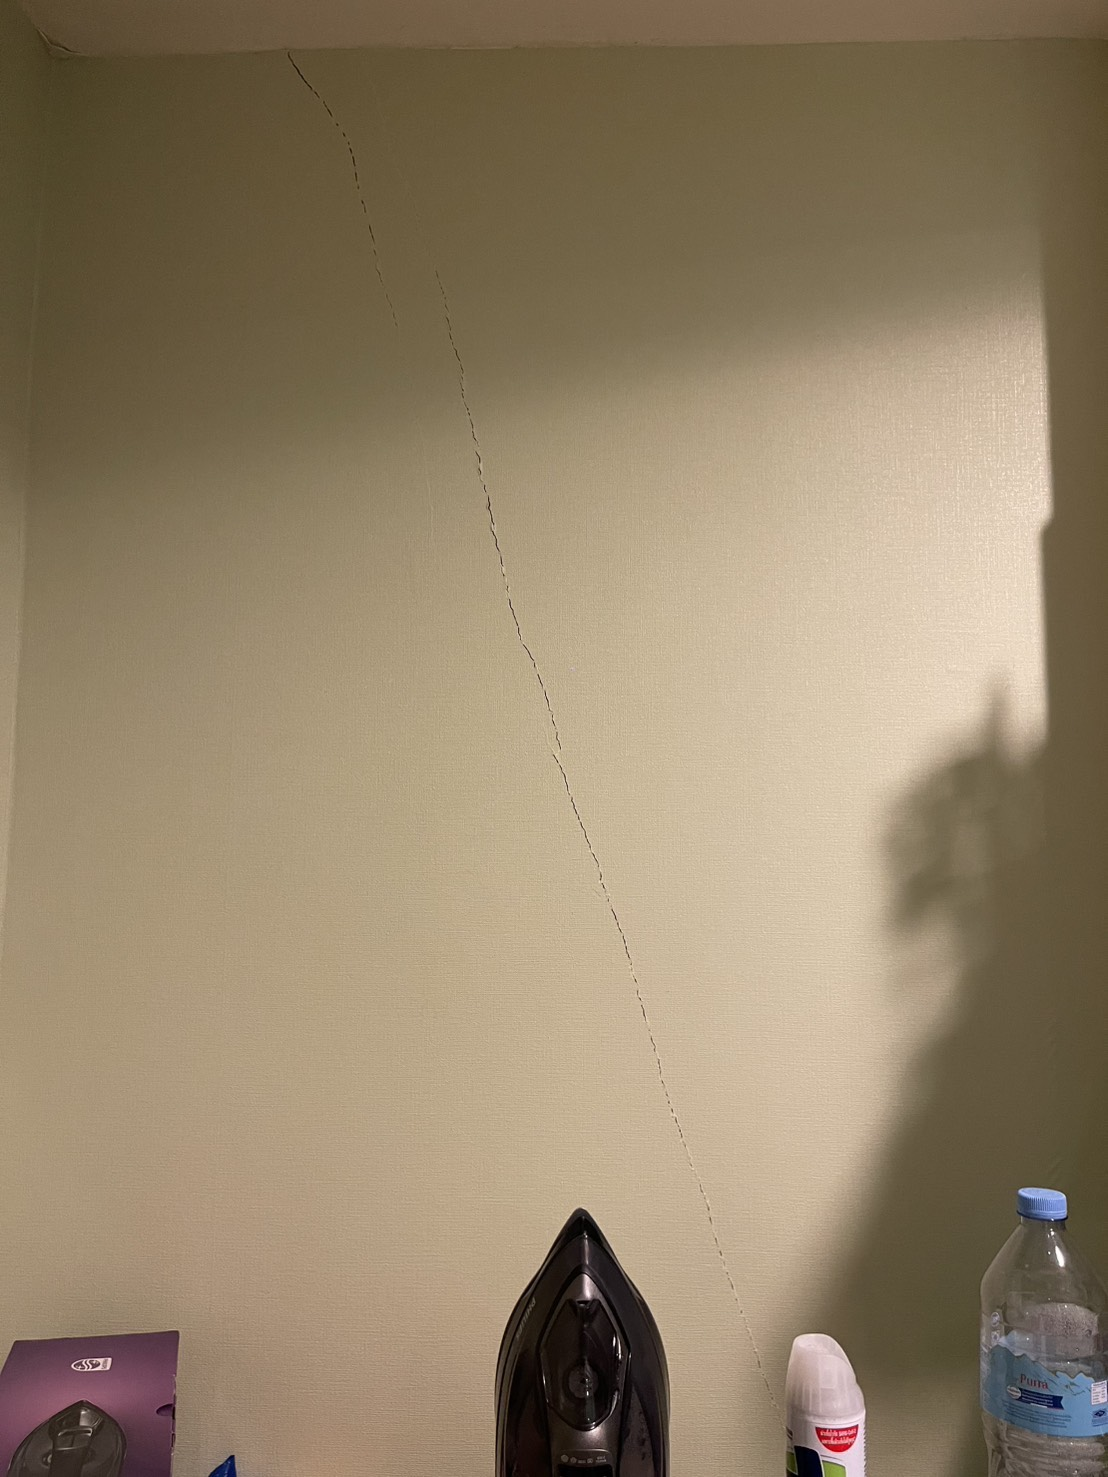Low: (276, 50, 705, 1176)
